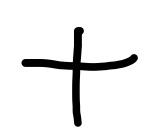plus: (21, 27, 138, 126)
